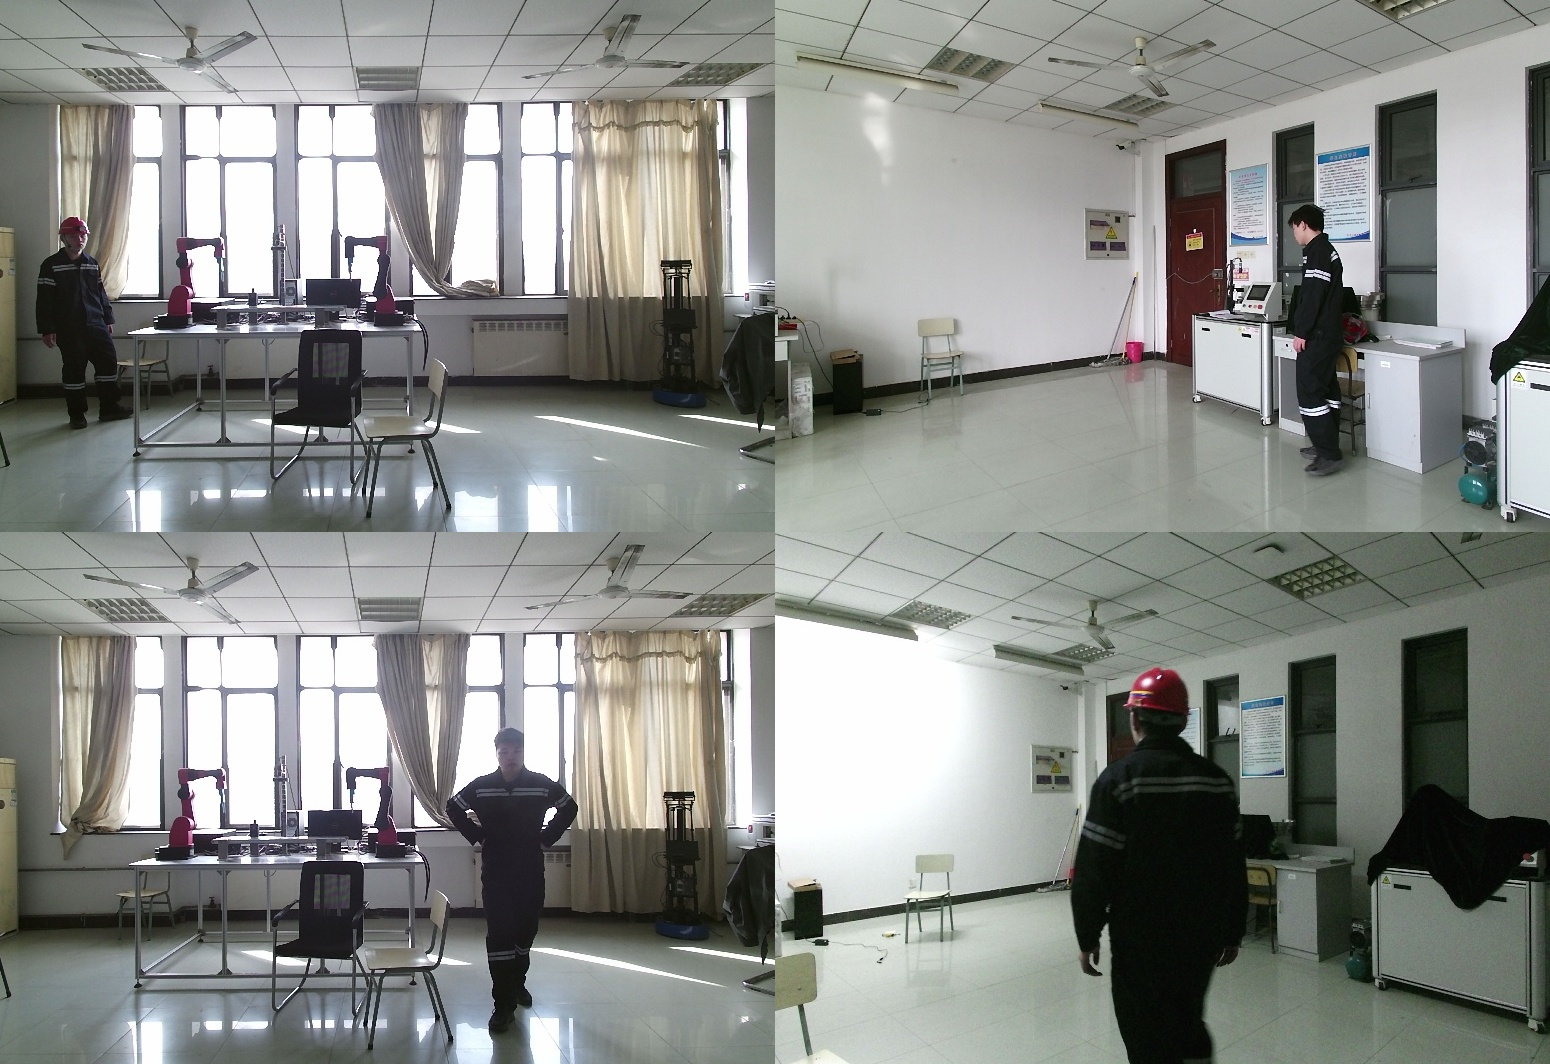person: (1071, 669, 1265, 1064), (448, 729, 589, 1030), (1295, 211, 1384, 475), (31, 219, 134, 429)
